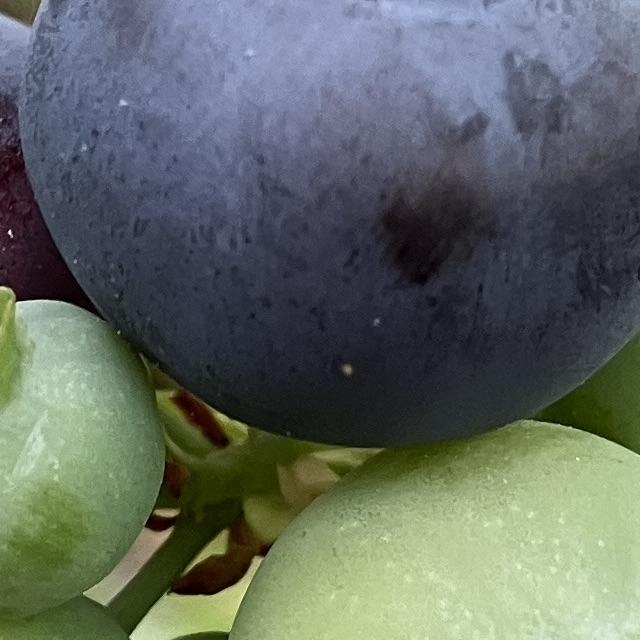Blueberries: (17, 0, 640, 490), (211, 416, 640, 640), (0, 237, 167, 617)
